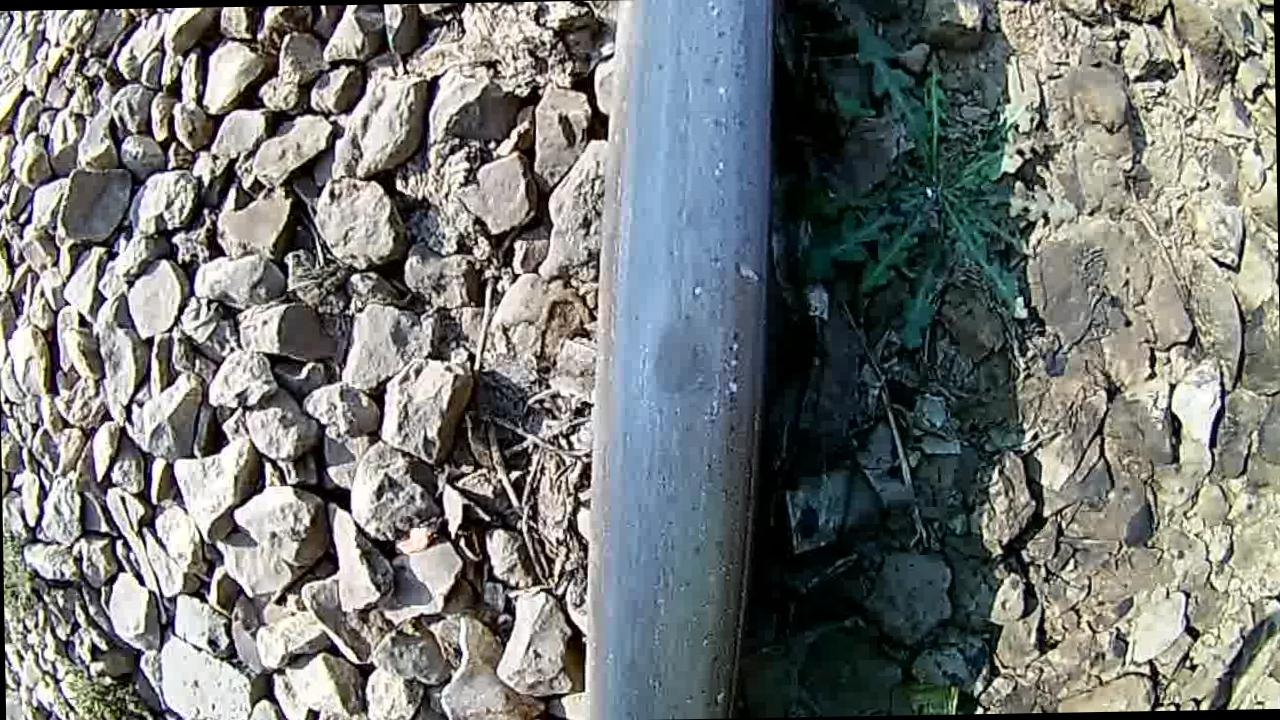bolt_missing: (606, 284, 771, 443)
